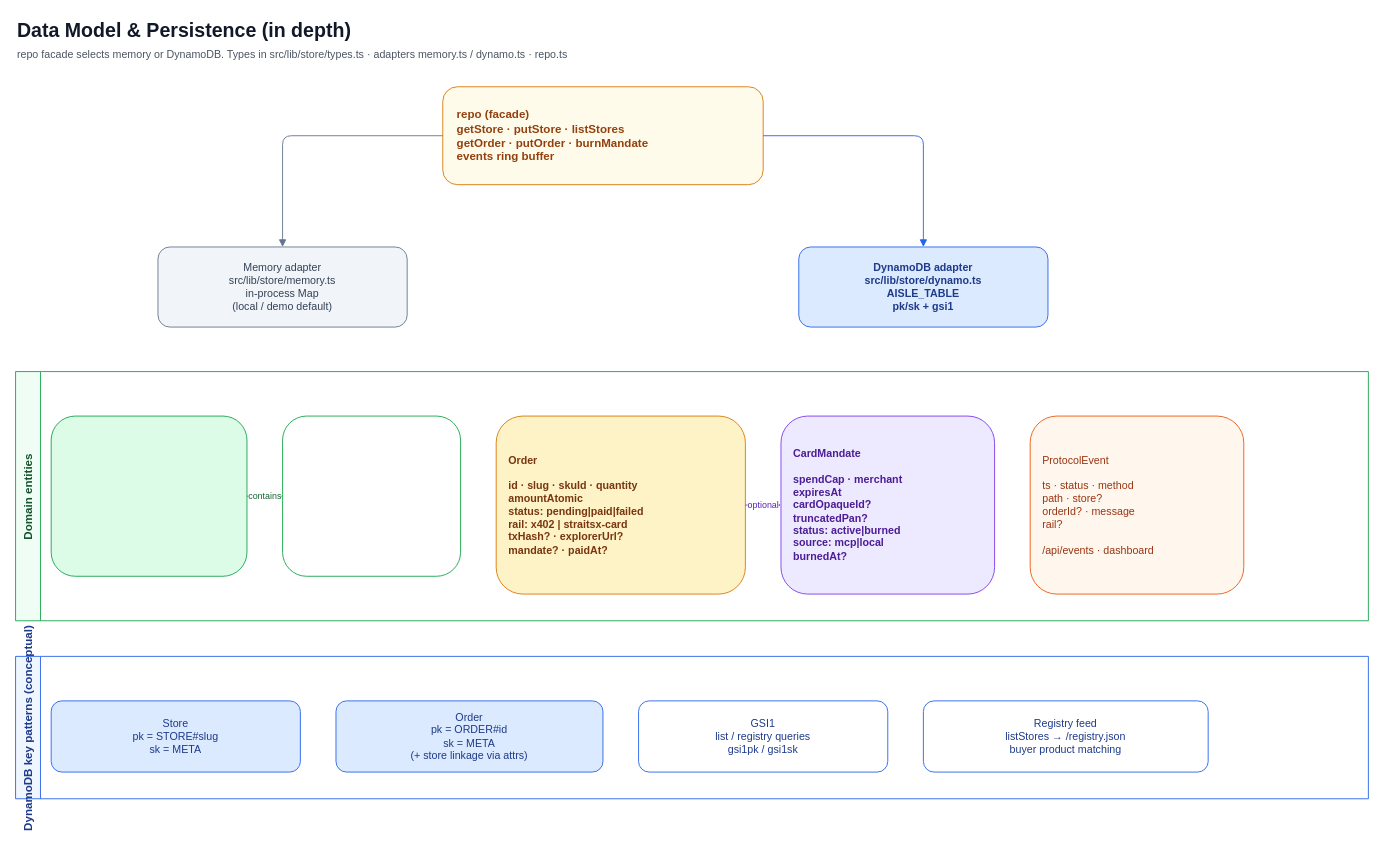
Image size: 1384x846. Some labels were removed from this diagram. The centre of each missing label's shape, as x and y in pixels:
"Sku id title description quantity price (XSGD string)" goes at point 371,495.
"StoreRecord slug name merchantAddress skus: Sku[] createdAt" goes at point 148,495.
